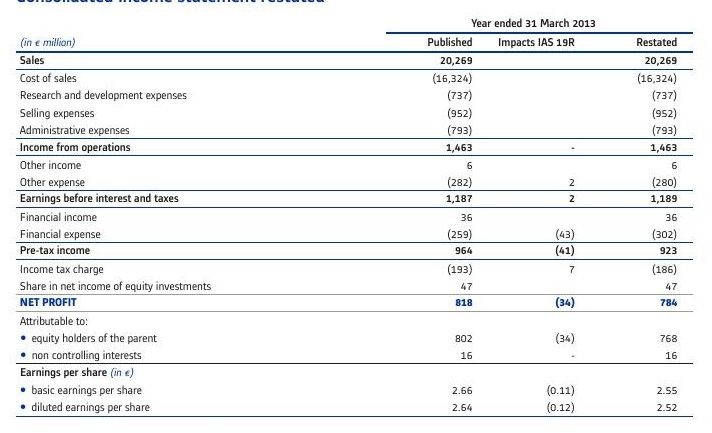table: (0, 0, 712, 433)
